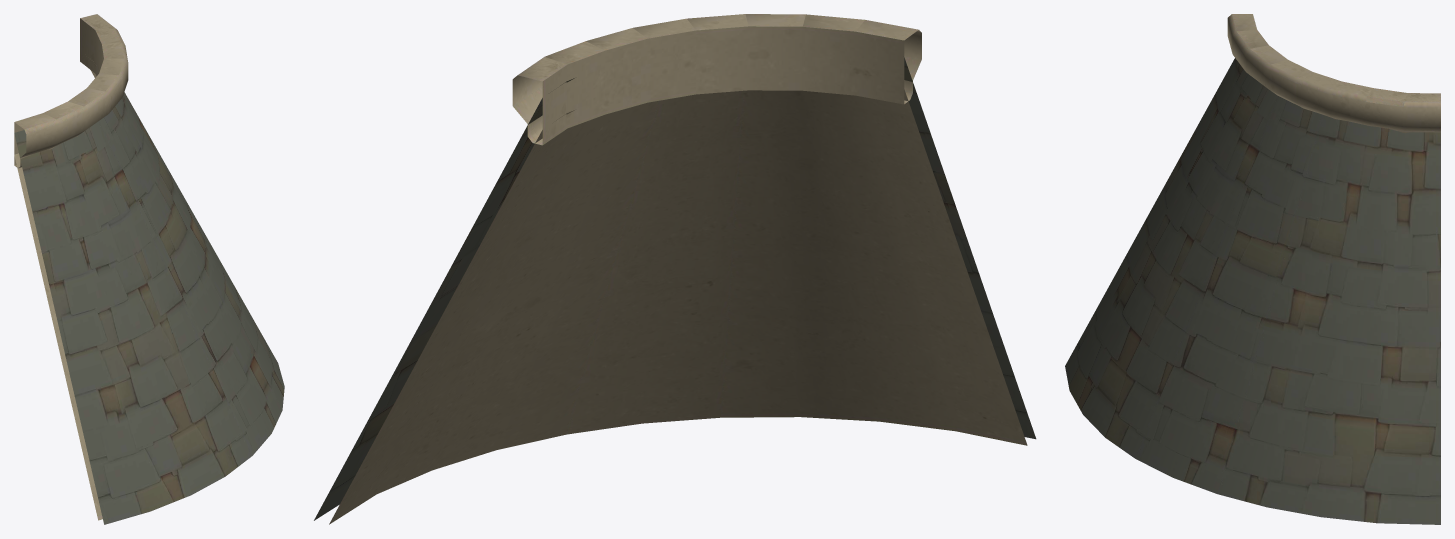
File: ARC0510003.fbx
The picture shows the model from 3 angles, left to right: view 1: azimuth 30°, elevation 25°; view 2: azimuth 150°, elevation 25°; view 3: azimuth 270°, elevation 25°; orthographic projection. The views are drawn at different scales.
Visible parts, largest first — view 1: smARC0510003; view 2: smARC0510003; view 3: smARC0510003.
Part boxes in pixels (x1,y1,x2,y2): smARC0510003: (14,14,284,524); smARC0510003: (314,14,1036,524); smARC0510003: (1065,14,1440,524).
Size of the model in its own units: 300 by 310 by 300.
1 material, 1 textured.
